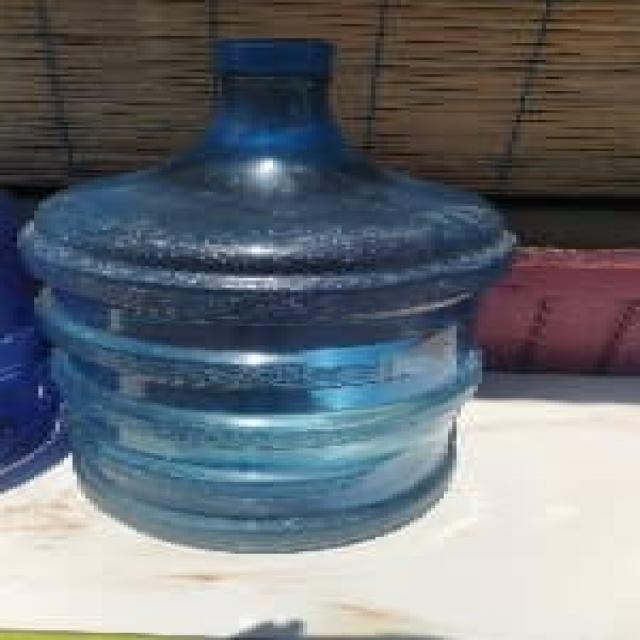HDPE Plastic: (13, 30, 525, 558), (0, 218, 81, 508)
